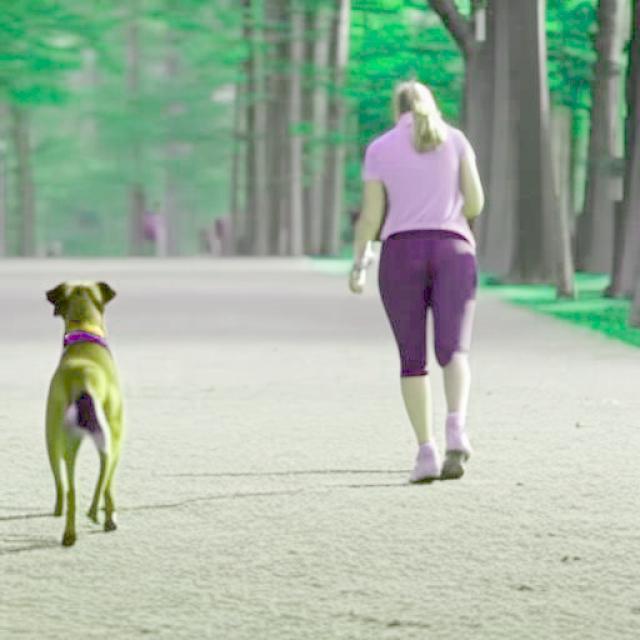Unleashed_Dog: (44, 234, 476, 547)
